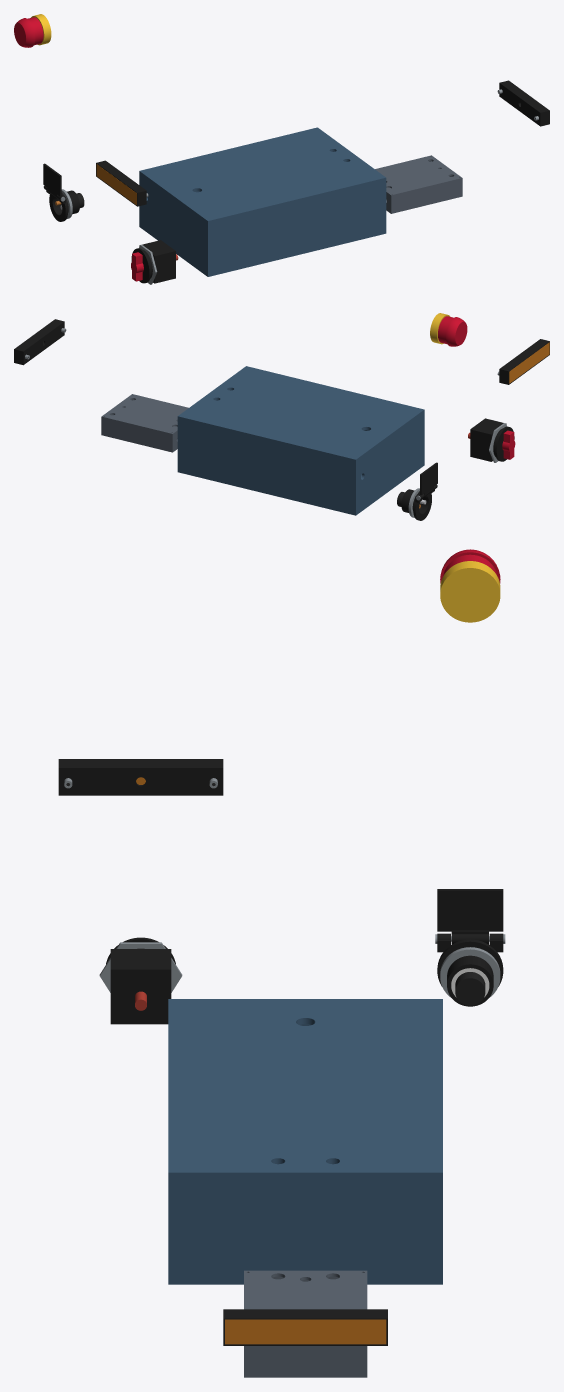
Rendered from preview_power.glb.
3 views of the same model, one above another, from view 1: azimuth 30°, elevation 25°; view 2: azimuth 150°, elevation 25°; view 3: azimuth 270°, elevation 25° (orthographic). The views are drawn at different scales.
Visible parts, largest first — view 1: battery_case, battery_case_lid, pdu_lid, pdu_enclosure, lightbar_front_housing, isolator_body, estop_head, lightbar_rear_housing, charge_inlet_body, lightbar_rear_lens, charge_inlet_flap, isolator_bezel; view 2: battery_case, battery_case_lid, pdu_lid, pdu_enclosure, lightbar_front_housing, isolator_body, estop_head, lightbar_rear_housing, charge_inlet_body, lightbar_rear_lens, charge_inlet_flap, isolator_bezel (+2 smaller); view 3: battery_case_lid, battery_case, lightbar_rear_housing, pdu_lid, isolator_body, lightbar_front_lens, pdu_enclosure, charge_inlet_flap, estop_collar, lightbar_front_housing, charge_inlet_body.
Boxes of the visible parts, x1,y1,x2,y2 form: battery_case: (139,174,386,276); battery_case_lid: (139,127,386,223); pdu_lid: (375,155,462,196); pdu_enclosure: (386,161,462,213); lightbar_front_housing: (499,80,549,126); isolator_body: (139,240,175,283); estop_head: (14,17,43,47); lightbar_rear_housing: (96,160,146,206); charge_inlet_body: (44,185,79,221); lightbar_rear_lens: (96,164,136,205); charge_inlet_flap: (43,163,61,198); isolator_bezel: (131,248,152,283); battery_case: (177,413,424,515); battery_case_lid: (177,366,424,462); pdu_lid: (101,394,188,435); pdu_enclosure: (101,399,177,452); lightbar_front_housing: (14,319,64,365); isolator_body: (470,418,506,461); estop_head: (438,316,467,346); lightbar_rear_housing: (499,339,549,384); charge_inlet_body: (401,484,437,520); lightbar_rear_lens: (509,342,549,383); charge_inlet_flap: (420,462,437,496); isolator_bezel: (493,426,514,461); battery_case_lid: (168,999,442,1178); battery_case: (168,1024,442,1284); lightbar_rear_housing: (58,759,223,795); pdu_lid: (244,1270,367,1309); isolator_body: (110,949,171,1024); lightbar_front_lens: (225,1319,386,1344); pdu_enclosure: (244,1276,367,1377); charge_inlet_flap: (437,889,503,944); estop_collar: (440,561,500,622); lightbar_front_housing: (223,1309,387,1345); charge_inlet_body: (437,933,503,1006).
Bounding box in the file's own units: 788 × 367 × 326.
